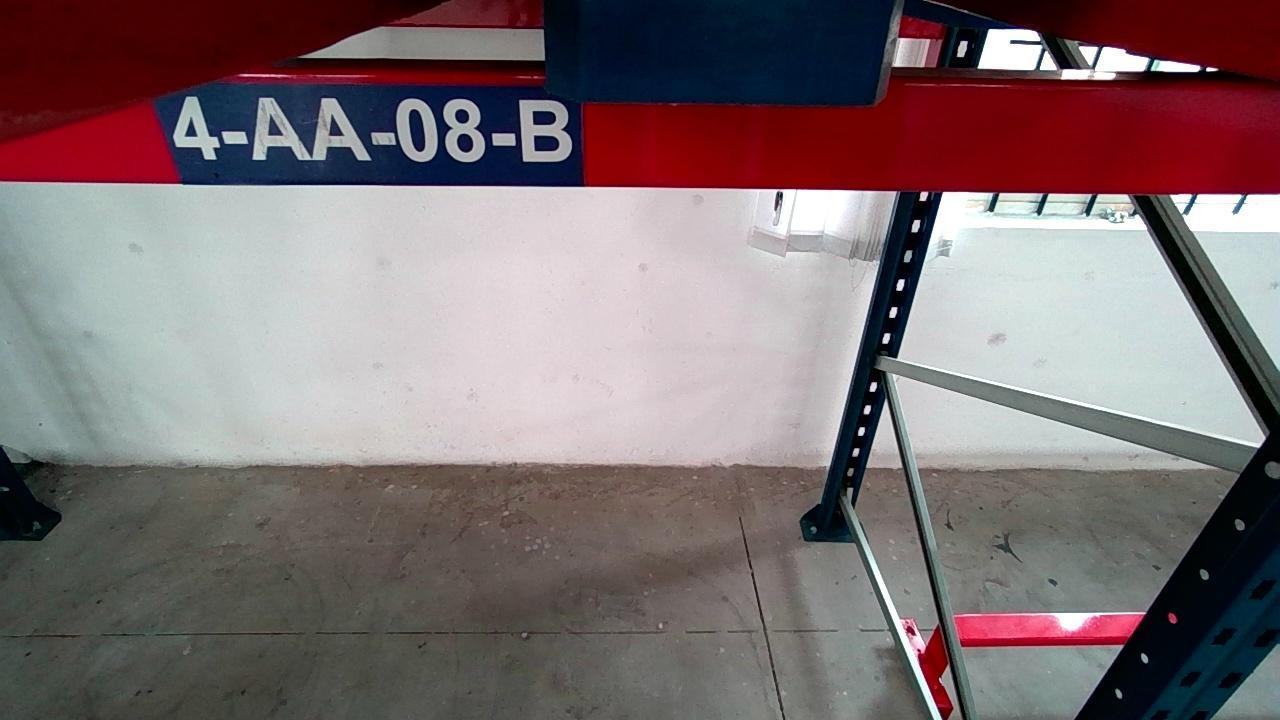h_rack: (0, 72, 1278, 191)
